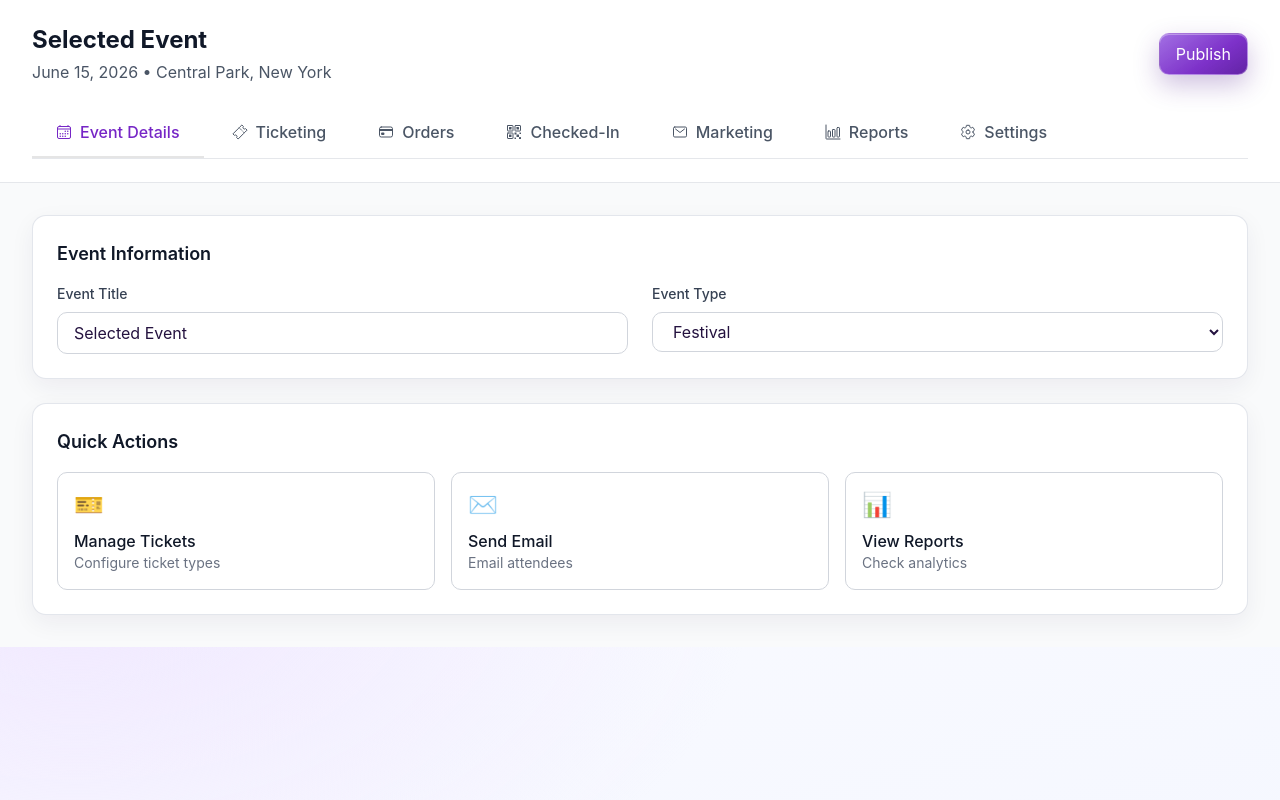
Test: App core flows › creates private link and activates waitlist in event settings
The image size is (1280, 800).
Click the button "Settings".
click(1004, 133)  # box [936,108,1071,158]
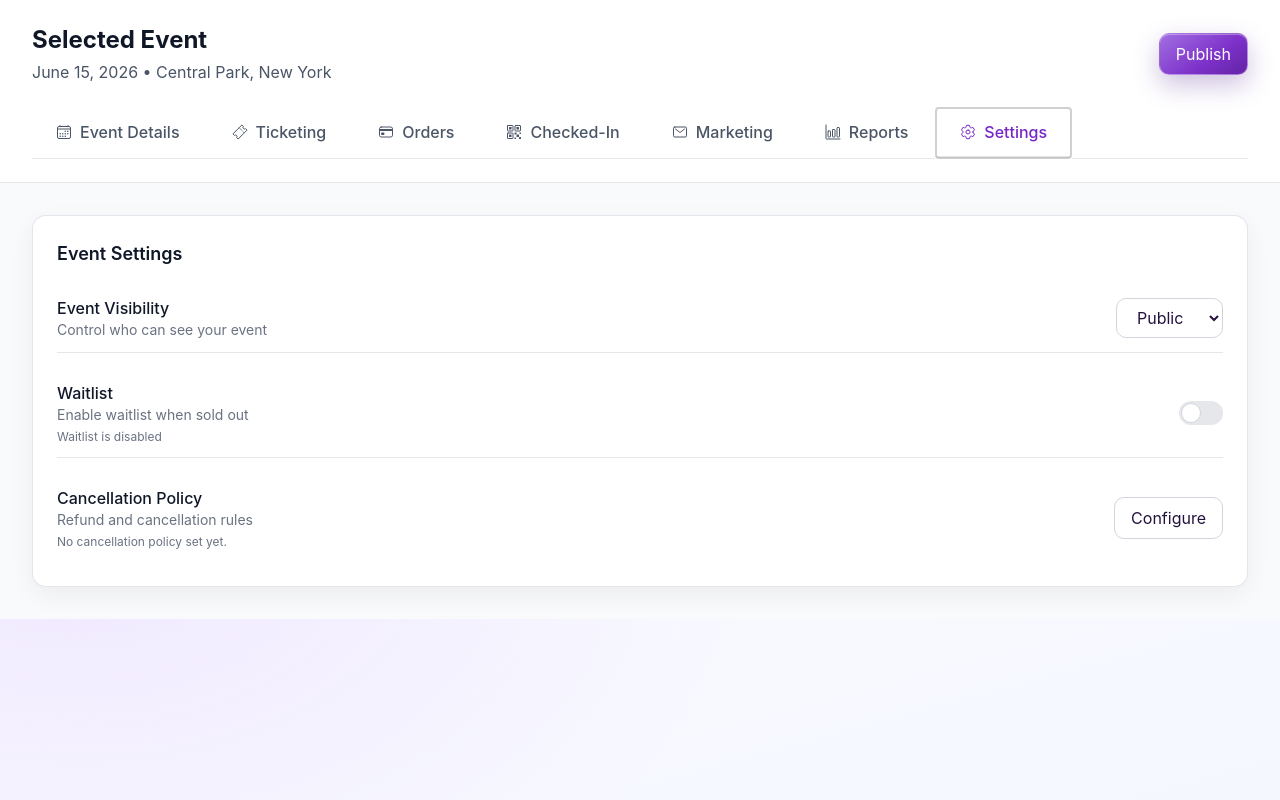
Select "Private" in the dropdown at (1170, 318), box [1116,298,1223,338]
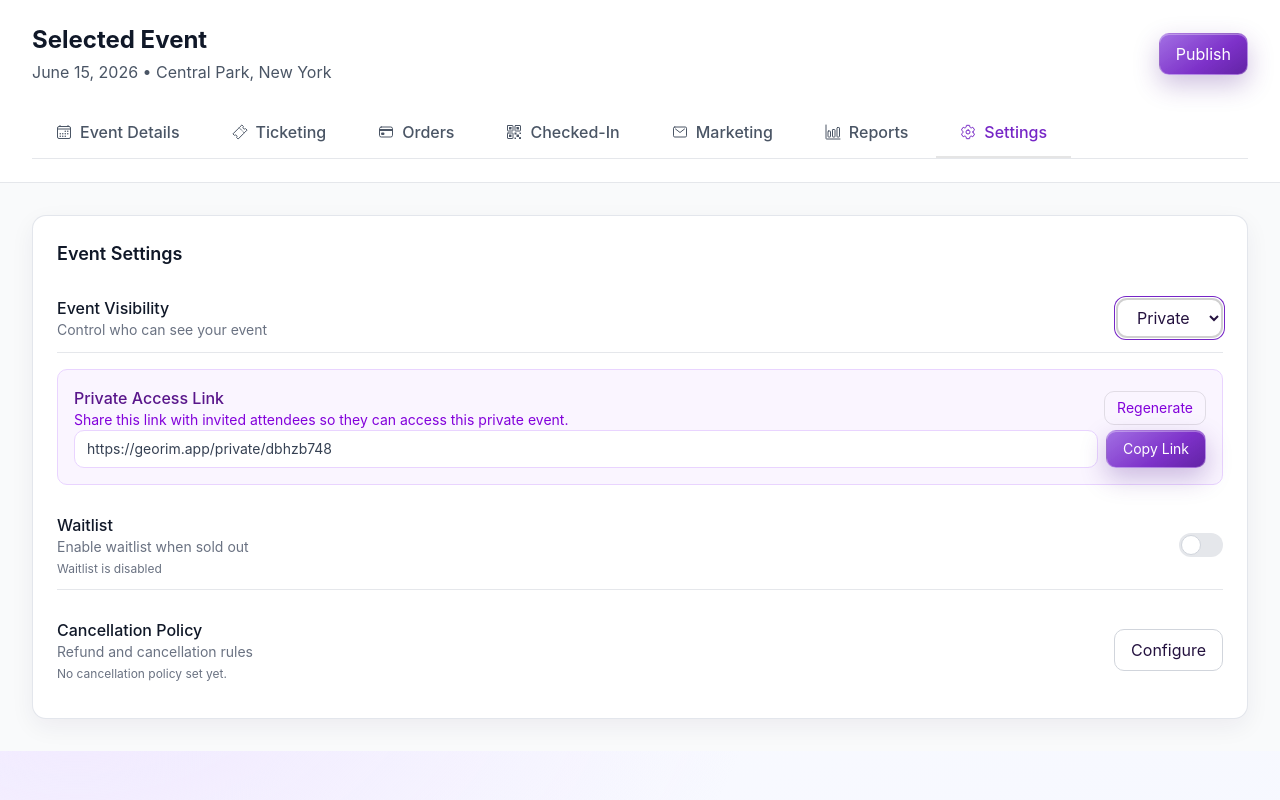
Expected: the field showing "https://georim.app/private/" is shown, [74,430,1098,468]
Expected: the button "Copy Link" is shown, [1106,430,1206,468]
Click the checkbox.
click(1201, 545)  # box [1179,533,1223,557]
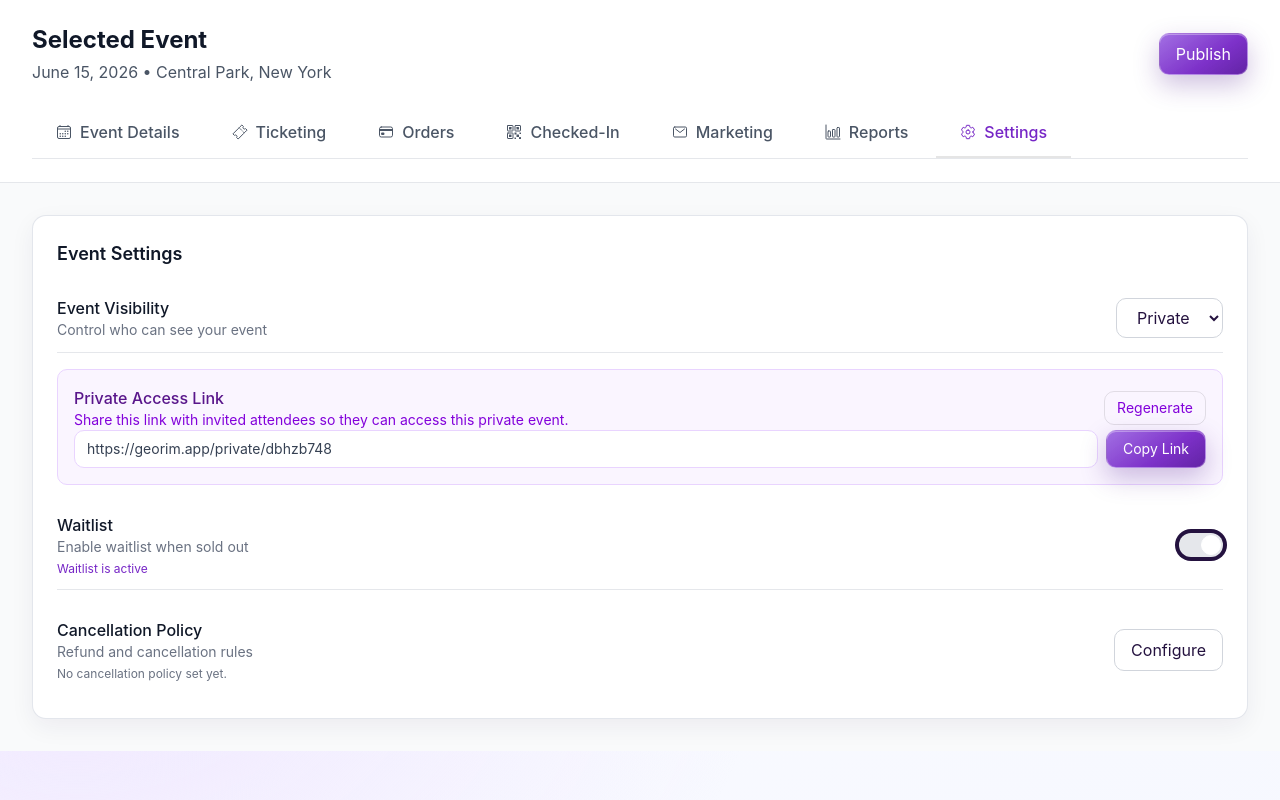
Expected: the text "Waitlist is active" has class "text-[#7626c6]", [57,561,148,576]
Click the button "Configure".
click(1169, 650)  # box [1114,629,1223,671]
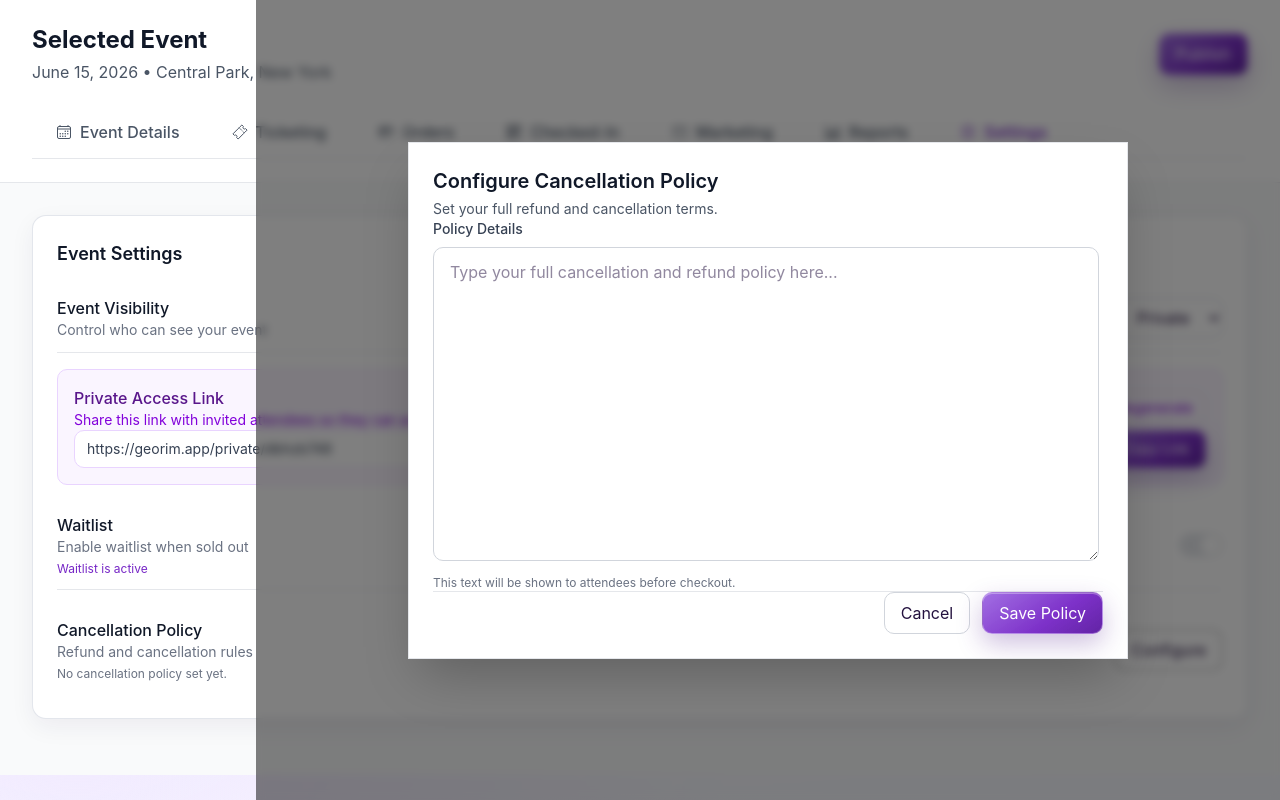
Expected: the heading "Configure Cancellation Policy" is shown, [433,168,718,192]
Type "Full refund available up to 14 days before event start." into the text box with placeholder "Type your full cancellation and refund policy here...".
click(766, 404); type("Full refund available up to 14 days before event start.")  # box [433,246,1099,560]
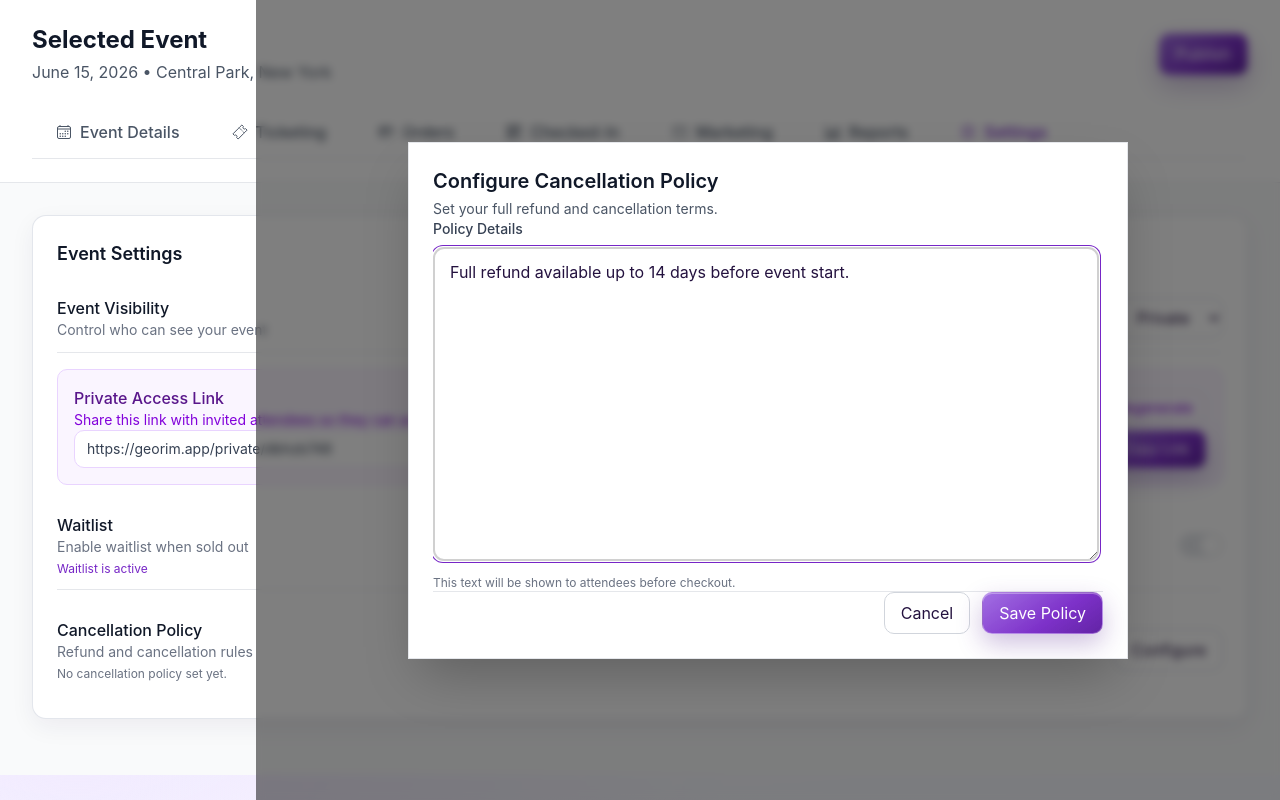
Click the button "Save Policy".
click(1043, 612)  # box [982,592,1103,634]
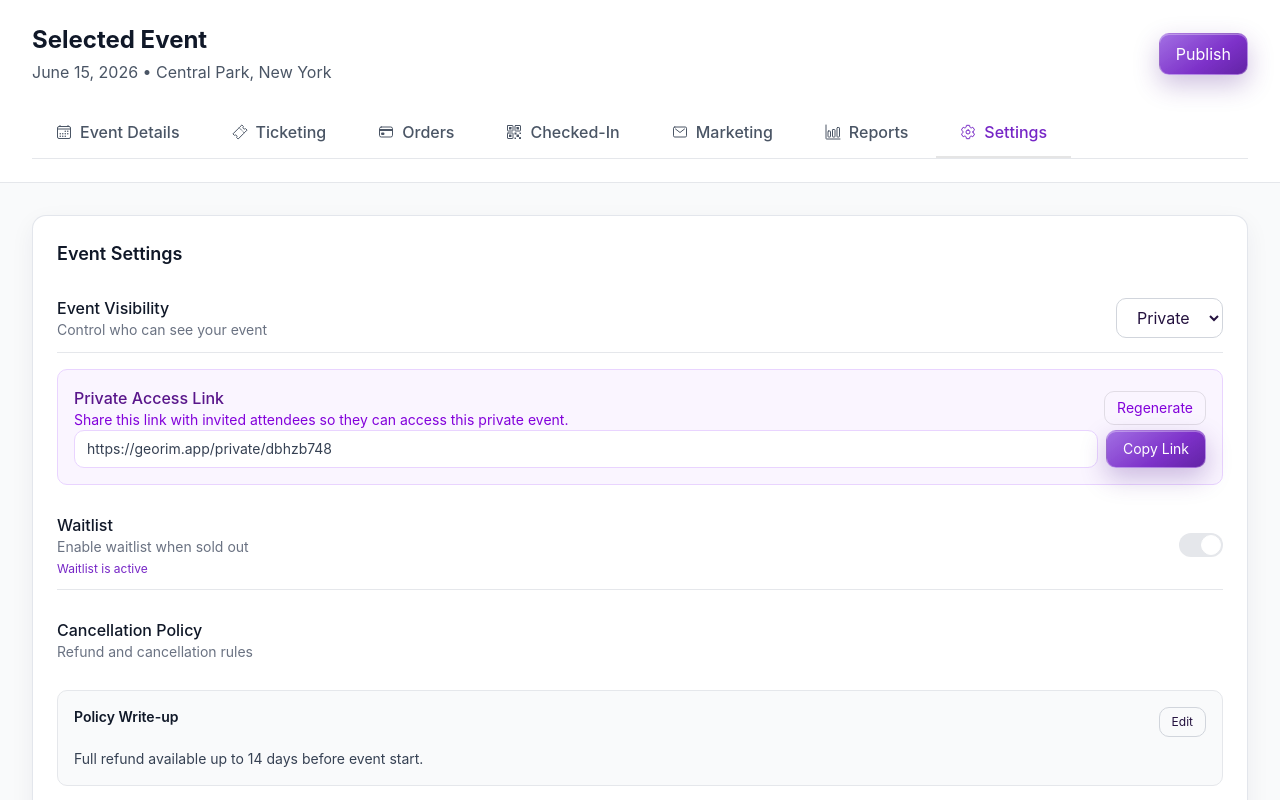
Expected: the text "Full refund available up to 14 days before event start." is shown, [74,750,423,767]
Expected: the button "Edit" is shown, [1159,707,1206,737]
